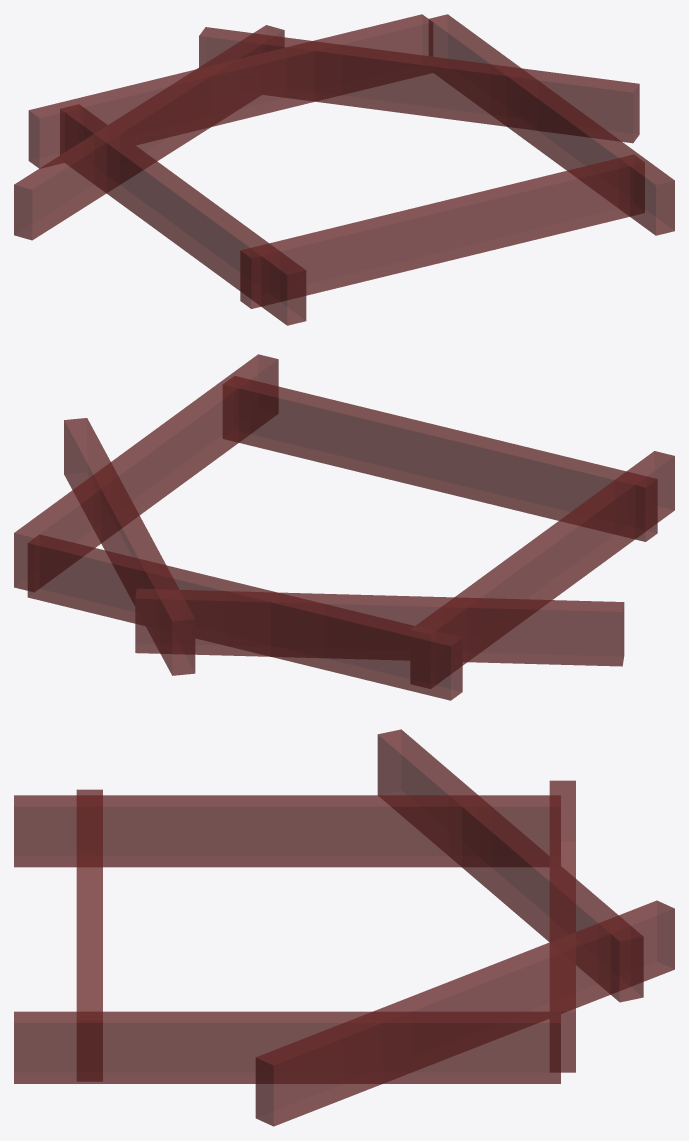
Rendered from MapBoundsOLD.fbx.
The picture shows the model from 3 angles, top to bottom: view 1: azimuth 30°, elevation 25°; view 2: azimuth 150°, elevation 25°; view 3: azimuth 270°, elevation 25°; orthographic projection. The views are drawn at different scales.
Visible parts, largest first — view 1: BoundingBox75, BoundingBox76, BoundingBox78, BoundingBox95, BoundingBox77, BoundingBox96; view 2: BoundingBox96, BoundingBox75, BoundingBox78, BoundingBox95, BoundingBox77, BoundingBox76; view 3: BoundingBox95, BoundingBox77, BoundingBox76, BoundingBox96, BoundingBox75, BoundingBox78.
Part boxes in pixels (x1=…): BoundingBox75: x1=240, y1=154, x2=644, y2=308; BoundingBox76: x1=199, y1=27, x2=639, y2=143; BoundingBox78: x1=28, y1=14, x2=433, y2=168; BoundingBox95: x1=429, y1=14, x2=674, y2=235; BoundingBox77: x1=60, y1=104, x2=306, y2=325; BoundingBox96: x1=14, y1=25, x2=284, y2=240; BoundingBox96: x1=135, y1=588, x2=624, y2=666; BoundingBox75: x1=223, y1=376, x2=657, y2=541; BoundingBox78: x1=27, y1=534, x2=462, y2=700; BoundingBox95: x1=14, y1=354, x2=278, y2=591; BoundingBox77: x1=410, y1=451, x2=674, y2=688; BoundingBox76: x1=64, y1=418, x2=195, y2=675; BoundingBox95: x1=14, y1=1011, x2=560, y2=1083; BoundingBox77: x1=14, y1=795, x2=560, y2=867; BoundingBox76: x1=255, y1=900, x2=674, y2=1126; BoundingBox96: x1=377, y1=729, x2=643, y2=1002; BoundingBox75: x1=76, y1=789, x2=102, y2=1081; BoundingBox78: x1=549, y1=780, x2=575, y2=1072.
Bounding box in the file's own units: 615 × 51.96 × 510.
